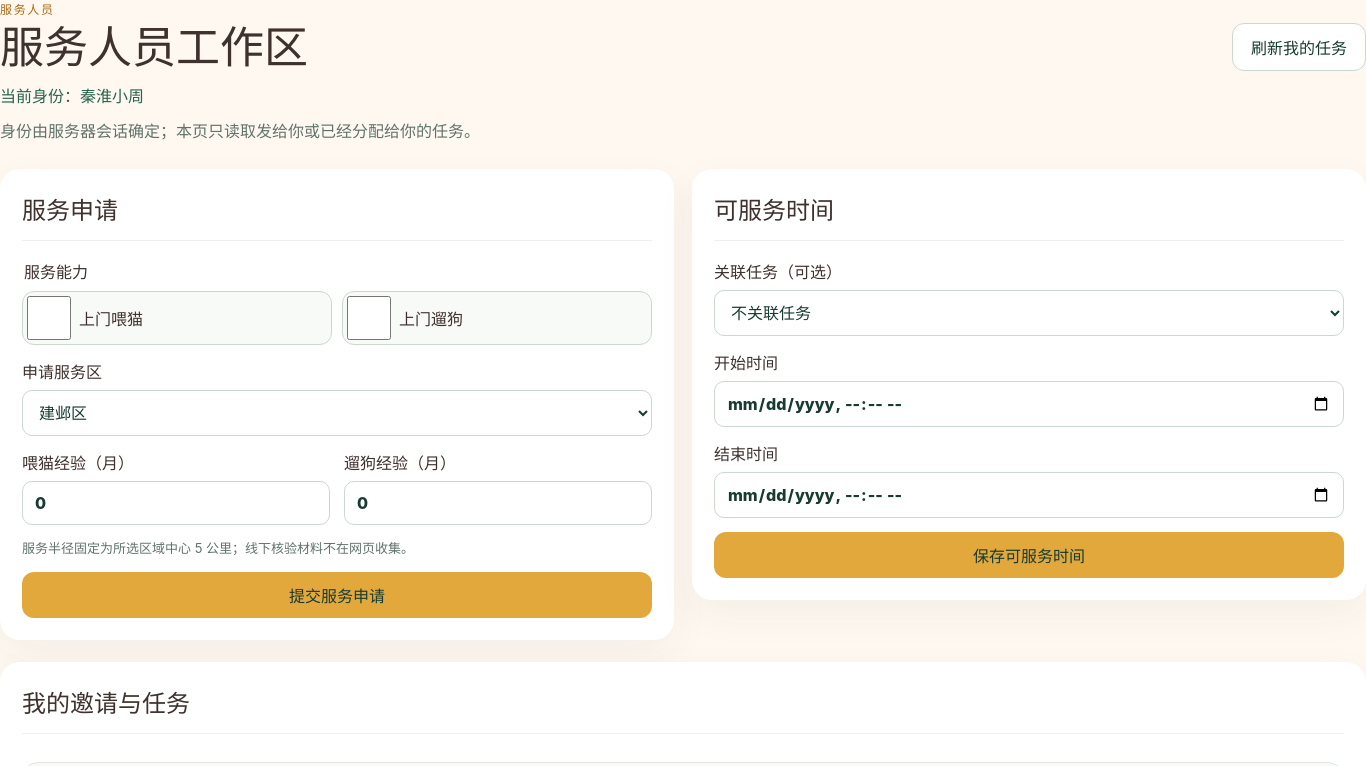
it: ProviderPilotWorkspace › fails closed when provider experience months bypass native input bounds
Click the checkbox labelled "上门喂猫" at (49,318), box x1=27 y1=296 x2=71 y2=340
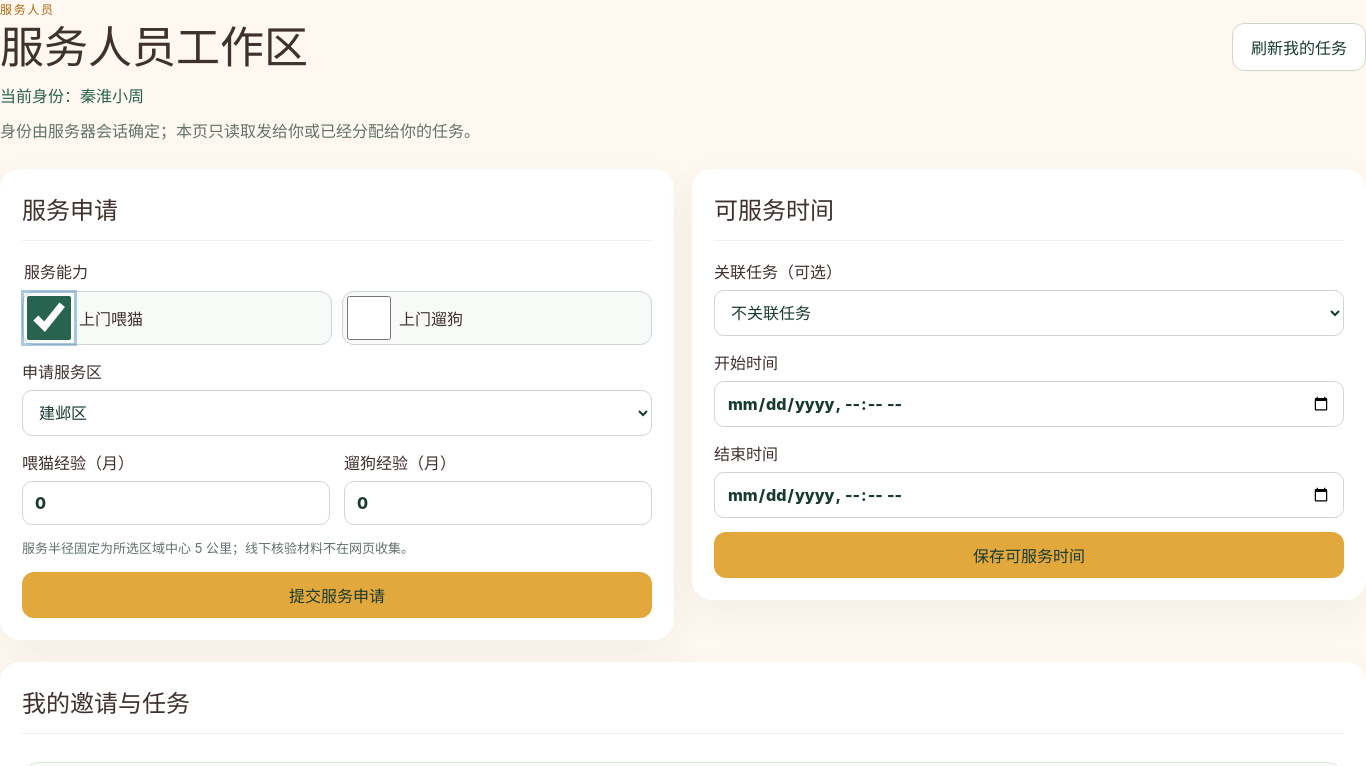
Replace the text in the number field labelled "喂猫经验（月）" with "1201" at (176,503), box x1=22 y1=481 x2=330 y2=525
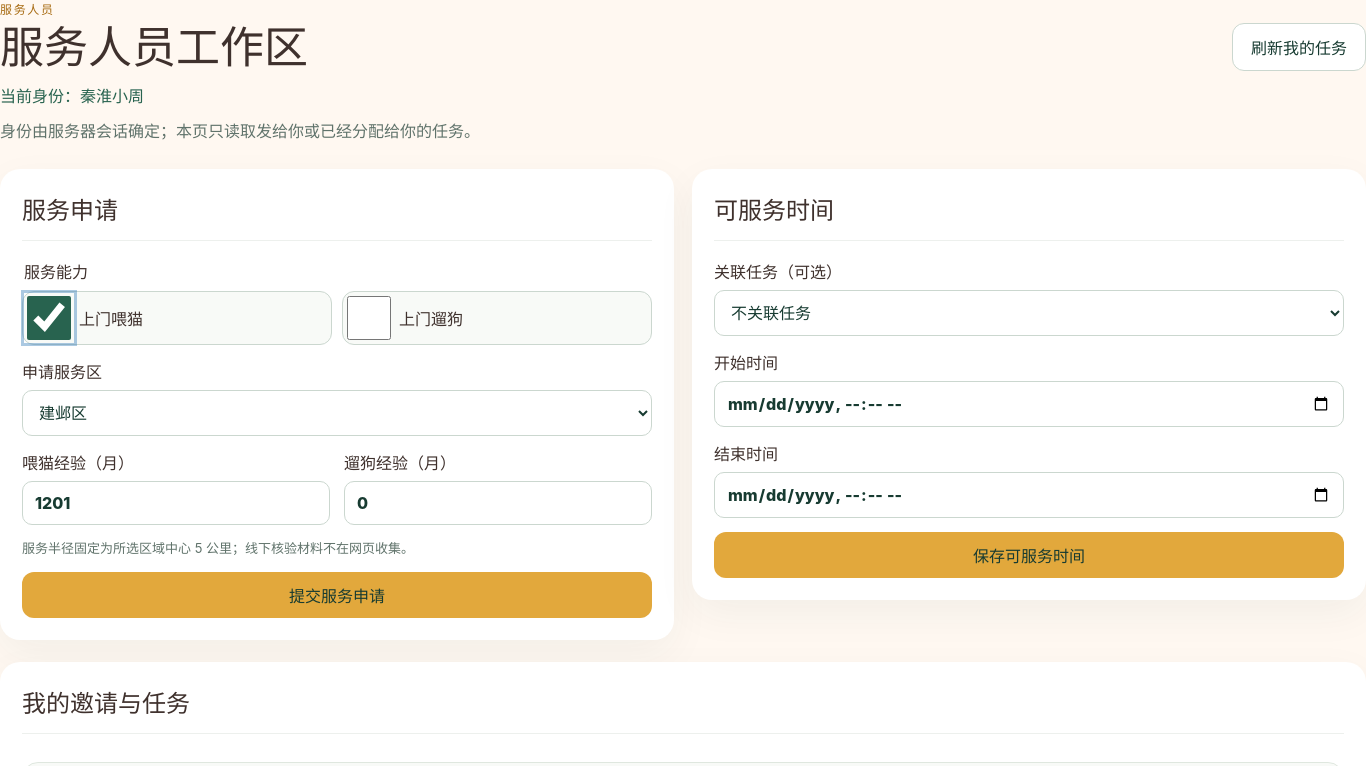
Submit the form "提交服务申请", box x1=22 y1=259 x2=652 y2=618
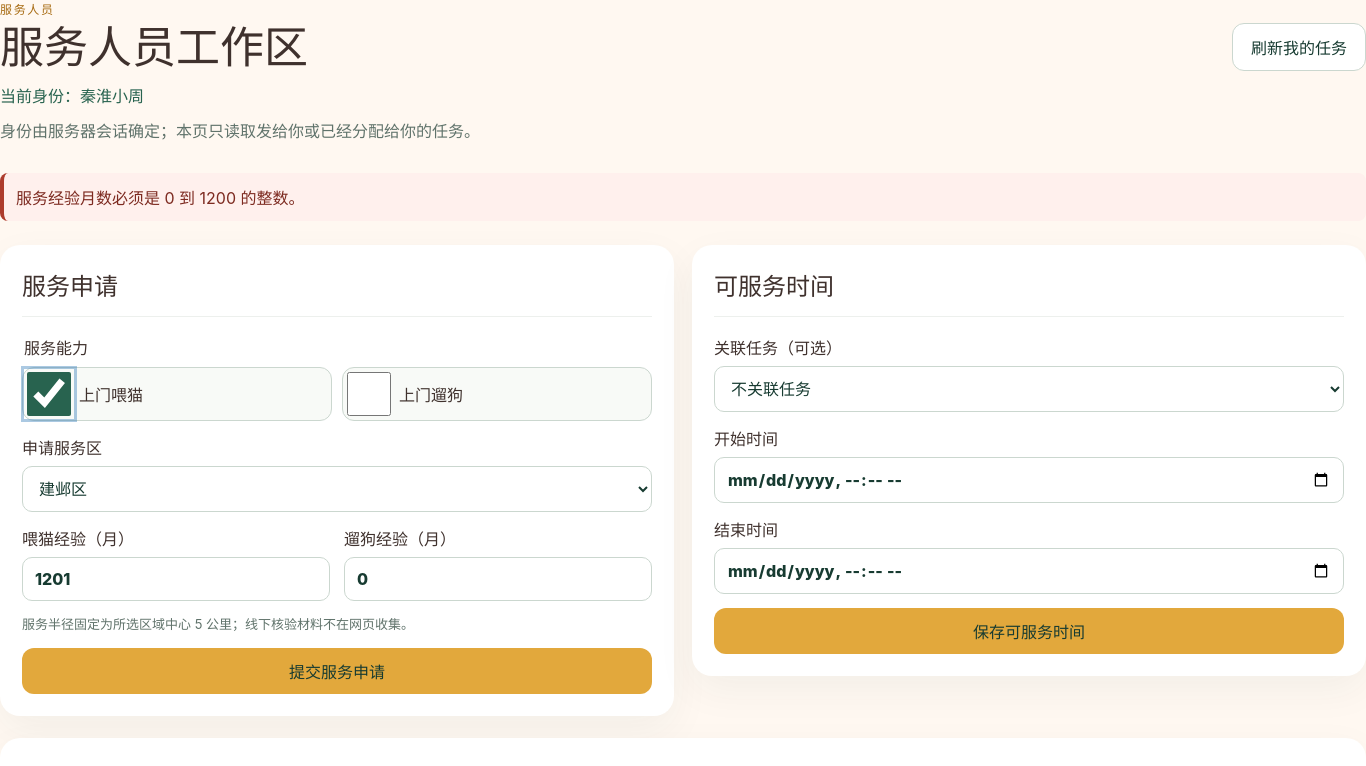
Result: the message shows "0 到 1200 的整数" at x1=16 y1=188 x2=305 y2=208
